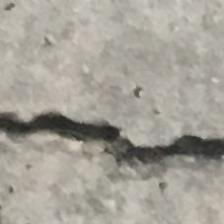Crack: (0, 103, 224, 220)
